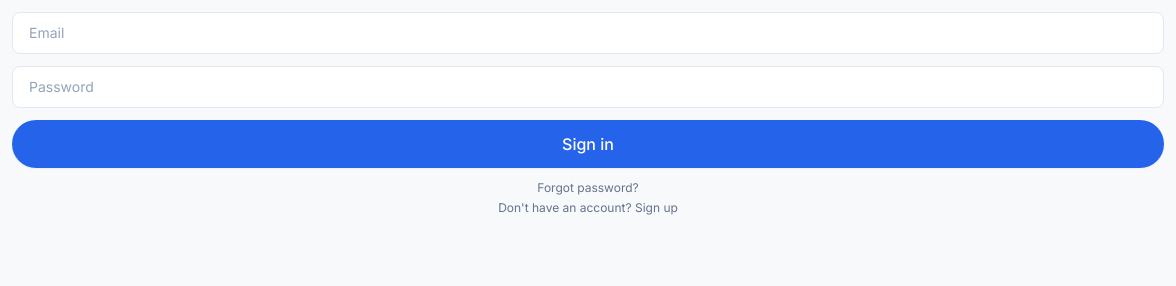
EmailPasswordForm › clears the error when switching modes
The width and height of the screenshot is (1176, 286).
Type "jane@example.com" into the field with placeholder "Email" at (588, 33), box left=12, top=12, right=1164, bottom=54
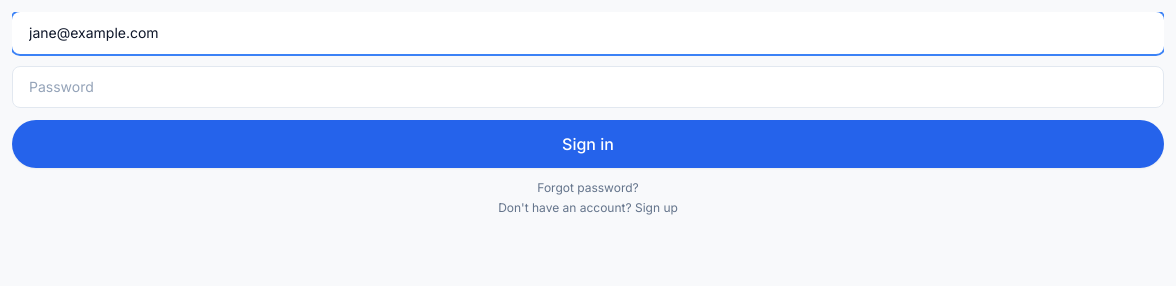
Type "wrong-pass" into the password field with placeholder "Password" at (588, 87), box left=12, top=66, right=1164, bottom=108
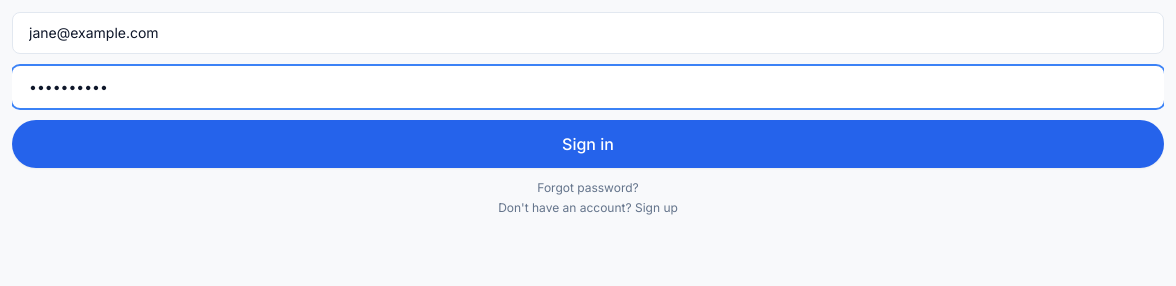
Click the button "Sign in" at (588, 144), box left=12, top=120, right=1164, bottom=168
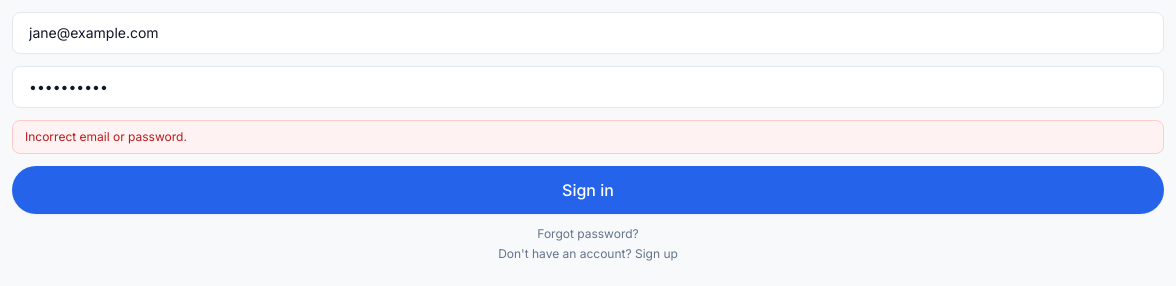
Check: the text "Incorrect email or password." is shown, box left=12, top=120, right=1164, bottom=154
Click the button "Don't have an account? Sign up" at (588, 254), box left=498, top=246, right=678, bottom=262
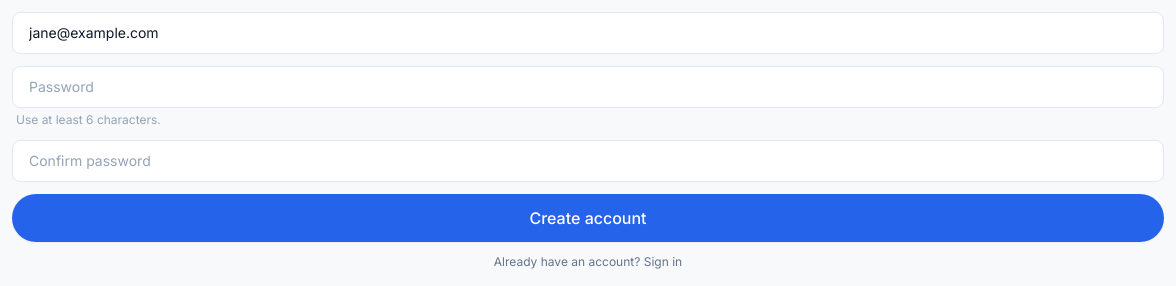
Check: the text "Incorrect email or password." is gone
